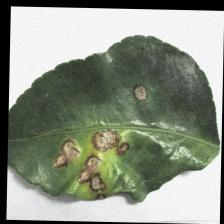canker: (20, 70, 171, 218)
